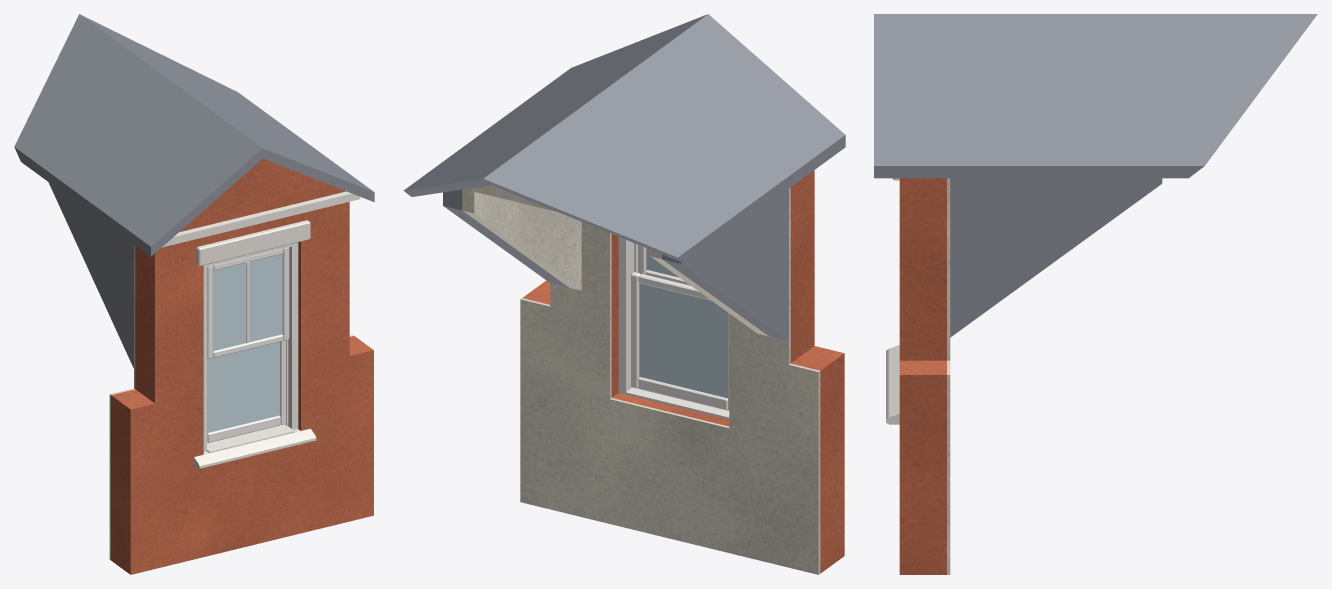
File: knee_wall_dormer.glb
The picture shows the model from 3 angles, left to right: view 1: azimuth 30°, elevation 25°; view 2: azimuth 150°, elevation 25°; view 3: azimuth 270°, elevation 25°; orthographic projection. The views are drawn at different scales.
Parts seen in each view (by area): view 1: knee_wall_dormer_render, knee_wall_dormer_slate, knee_wall_dormer_glass, knee_wall_dormer_trim, knee_wall_dormer_sash, knee_wall_dormer_frame, knee_wall_dormer_plaster; view 2: knee_wall_dormer_slate, knee_wall_dormer_plaster, knee_wall_dormer_render, knee_wall_dormer_glass, knee_wall_dormer_sash, knee_wall_dormer_frame, knee_wall_dormer_trim; view 3: knee_wall_dormer_slate, knee_wall_dormer_render, knee_wall_dormer_plaster, knee_wall_dormer_trim.
Part boxes in pixels (<box>): knee_wall_dormer_render: <box>111,158,373,574</box>; knee_wall_dormer_slate: <box>14,14,374,368</box>; knee_wall_dormer_glass: <box>207,254,282,432</box>; knee_wall_dormer_trim: <box>162,191,360,468</box>; knee_wall_dormer_sash: <box>207,247,289,442</box>; knee_wall_dormer_frame: <box>203,242,298,451</box>; knee_wall_dormer_plaster: <box>109,245,353,560</box>; knee_wall_dormer_slate: <box>403,14,845,341</box>; knee_wall_dormer_plaster: <box>462,185,820,574</box>; knee_wall_dormer_render: <box>522,170,844,573</box>; knee_wall_dormer_glass: <box>639,248,727,398</box>; knee_wall_dormer_sash: <box>631,244,729,410</box>; knee_wall_dormer_frame: <box>618,237,637,394</box>; knee_wall_dormer_trim: <box>626,387,729,419</box>; knee_wall_dormer_slate: <box>874,14,1317,337</box>; knee_wall_dormer_render: <box>899,178,946,574</box>; knee_wall_dormer_plaster: <box>947,178,950,574</box>; knee_wall_dormer_trim: <box>886,178,899,424</box>.
Bounding box in the file's own units: 2 × 3.18 × 2.61.
7 materials, 2 textured.
